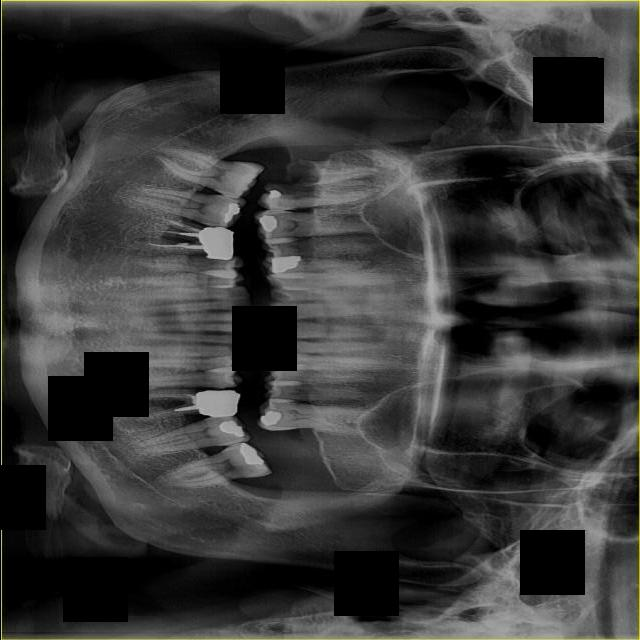74: (154, 215, 201, 233), (146, 243, 188, 248), (153, 393, 193, 398), (149, 229, 178, 235)
NucleOSS Implant: (195, 226, 235, 260), (196, 390, 240, 418), (234, 439, 265, 473), (267, 254, 302, 274), (254, 209, 280, 235), (257, 406, 283, 430), (217, 418, 246, 437), (223, 202, 242, 225), (266, 189, 279, 199)
Sterngold Implant: (282, 159, 321, 186), (264, 183, 319, 200)
